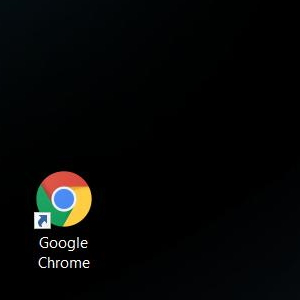chrome: (32, 170, 92, 230)
